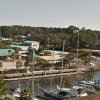Boat: (4, 58, 91, 76)
